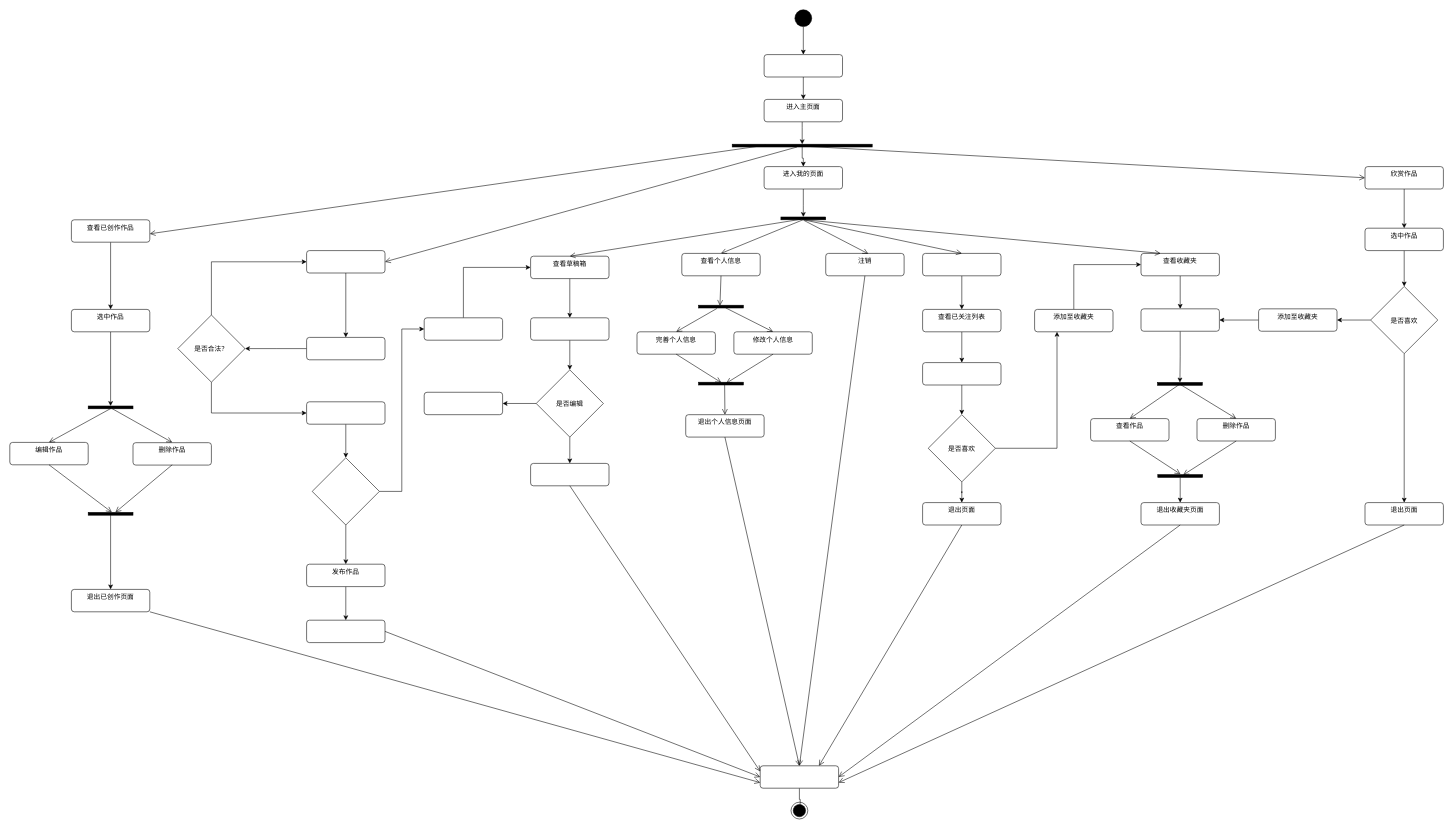
This 1453x829 diagram has some shape labels left out. The shapes that lost their labels are listed below. From the top down, each one's centre as x and y in pixels, then its label:
point (803, 65): 登录
point (345, 261): 创作作品
point (961, 264): 关注
point (463, 328): 存为草稿箱
point (569, 328): 点击草稿
point (1179, 319): 点击作品
point (345, 348): 上传作品
point (961, 373): 查看作品最新状态
point (345, 412): 生成照片
point (463, 403): 修改草稿
point (345, 491): 是否发布
point (569, 474): 退出草稿页面
point (345, 631): 退出创作界面
point (799, 776): 退出主页面
